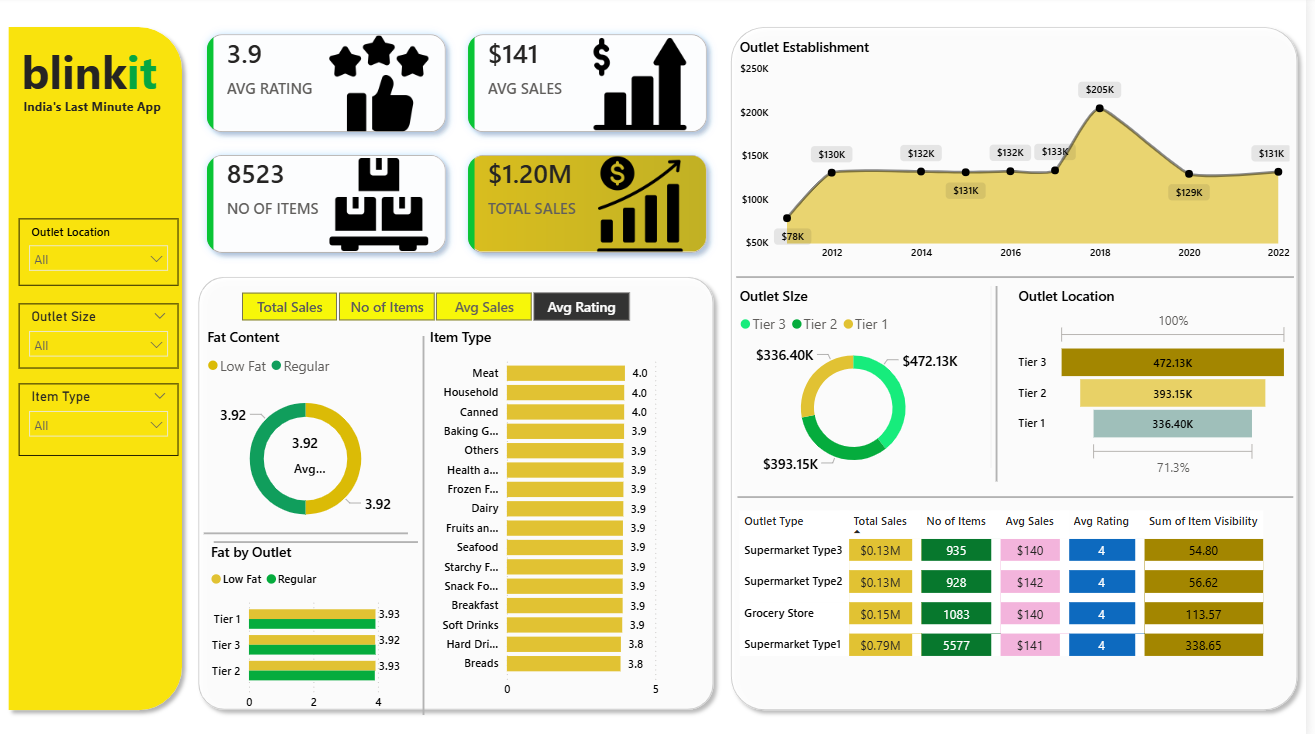

What the dashboard file says about the page in this screenshot:
{"tool":"powerbi","page":{"name":"Page 1","canvas":[1400,800],"ordinal":0},"visuals":[{"type":"shape","box":[0,23.9,204.3,750.8],"z":0},{"type":"textbox","box":[0,43.4,191.2,74.9],"z":1000},{"type":"textbox","box":[19.7,104.4,171.5,33.5],"z":2000},{"type":"cardVisual","fields":{"Data":["BlinkIT Grocery Data.Avg Rating","BlinkIT Grocery Data.Avg Sales","BlinkIT Grocery Data.No of Items","BlinkIT Grocery Data.Total Sales"]},"box":[204.5,24.2,570.6,269.5],"z":3000},{"type":"shape","box":[204.3,292.6,570.5,482.1],"z":4000},{"type":"donutChart","title":"Fat Content","fields":{"Y":["BlinkIT Grocery Data.Avg Rating"],"Category":["BlinkIT Grocery Data.Item Fat Content"]},"box":[217.5,355,221.2,230.5],"z":5000},{"type":"slicer","fields":{"Values":["Metrics.Metrics"]},"box":[233.7,311,465.6,44.2],"z":6000},{"type":"cardVisual","fields":{"Data":["BlinkIT Grocery Data.Avg Rating"]},"box":[277.9,450.8,99.4,82.8],"z":7000},{"type":"clusteredBarChart","title":"Fat by Outlet","fields":{"Y":["BlinkIT Grocery Data.Avg Rating"],"Category":["BlinkIT Grocery Data.Outlet Location Type"],"Series":["BlinkIT Grocery Data.Item Fat Content"]},"box":[220.8,585.2,217.1,189.5],"z":8000},{"type":"shape","box":[219,566.8,219,18.4],"z":9000},{"type":"shape","box":[1056.3,311,12.9,195.1],"z":10000},{"type":"barChart","title":"Item Type","fields":{"Y":["BlinkIT Grocery Data.Avg Rating"],"Category":["BlinkIT Grocery Data.Item Type"]},"box":[456.4,355.2,298.1,406.7],"z":11000},{"type":"shape","box":[774.7,23.9,625.7,750.8],"z":12000},{"type":"lineChart","title":"Outlet Establishment ","fields":{"Category":["BlinkIT Grocery Data.Outlet Establishment Year"],"Y":["BlinkIT Grocery Data.Total Sales"]},"box":[787.6,44.2,599.9,248.4],"z":13000},{"type":"donutChart","title":"Outlet SIze","fields":{"Y":["BlinkIT Grocery Data.Total Sales"],"Category":["BlinkIT Grocery Data.Outlet Location Type"]},"box":[787.6,311,253.9,209.8],"z":14000},{"type":"funnel","title":"Outlet Location","fields":{"Category":["BlinkIT Grocery Data.Outlet Location Type"],"Y":["Sum(BlinkIT Grocery Data.Sales)"]},"box":[1087.5,311,299.9,209.8],"z":15000},{"type":"shape","box":[789.4,292.6,598.1,18.4],"z":16000},{"type":"shape","box":[448,365.2,12.9,406.7],"z":17000},{"type":"shape","box":[1058.1,311,22.1,209.8],"z":18000},{"type":"pivotTable","fields":{"Rows":["BlinkIT Grocery Data.Outlet Type"],"Values":["BlinkIT Grocery Data.Total Sales","BlinkIT Grocery Data.No of Items","BlinkIT Grocery Data.Avg Sales","BlinkIT Grocery Data.Avg Rating","Sum(BlinkIT Grocery Data.Item Visibility)"]},"box":[787.6,546.5,598.1,215.3],"z":19000},{"type":"shape","box":[791.3,528.1,596.2,18.4],"z":20000},{"type":"slicer","fields":{"Values":["BlinkIT Grocery Data.Outlet Location Type"]},"box":[20.2,239.2,171.1,71.8],"z":21000},{"type":"shape","box":[229,576.8,219,18.4],"z":22000},{"type":"slicer","fields":{"Values":["BlinkIT Grocery Data.Outlet Size"]},"box":[20.2,329.4,171.1,69.9],"z":23000},{"type":"slicer","fields":{"Values":["BlinkIT Grocery Data.Item Type"]},"box":[20.2,415.9,171.1,77.3],"z":24000}]}

Visuals, with their boxes in screenshot pixels (x1, y1, x2, y2), scaled from the page's 1400x800 canvas onto the 1315x734 screenshot:
shape: locate(0, 22, 192, 711)
textbox: locate(0, 40, 180, 109)
textbox: locate(19, 96, 180, 127)
cardVisual - BlinkIT Grocery Data.Avg Rating x BlinkIT Grocery Data.Avg Sales: locate(192, 22, 728, 269)
shape: locate(192, 268, 728, 711)
"Fat Content" donutChart: locate(204, 326, 412, 537)
slicer - Metrics.Metrics: locate(220, 285, 657, 326)
cardVisual - BlinkIT Grocery Data.Avg Rating: locate(261, 414, 354, 490)
"Fat by Outlet" clusteredBarChart: locate(207, 537, 411, 711)
shape: locate(206, 520, 411, 537)
shape: locate(992, 285, 1004, 464)
"Item Type" barChart: locate(429, 326, 709, 699)
shape: locate(728, 22, 1314, 711)
"Outlet Establishment " lineChart: locate(740, 41, 1303, 268)
"Outlet SIze" donutChart: locate(740, 285, 978, 478)
"Outlet Location" funnel: locate(1021, 285, 1303, 478)
shape: locate(741, 268, 1303, 285)
shape: locate(421, 335, 433, 708)
shape: locate(994, 285, 1015, 478)
pivotTable - BlinkIT Grocery Data.Outlet Type x BlinkIT Grocery Data.Total Sales: locate(740, 501, 1302, 699)
shape: locate(743, 485, 1303, 501)
slicer - BlinkIT Grocery Data.Outlet Location Type: locate(19, 219, 180, 285)
shape: locate(215, 529, 421, 546)
slicer - BlinkIT Grocery Data.Outlet Size: locate(19, 302, 180, 366)
slicer - BlinkIT Grocery Data.Item Type: locate(19, 382, 180, 453)
